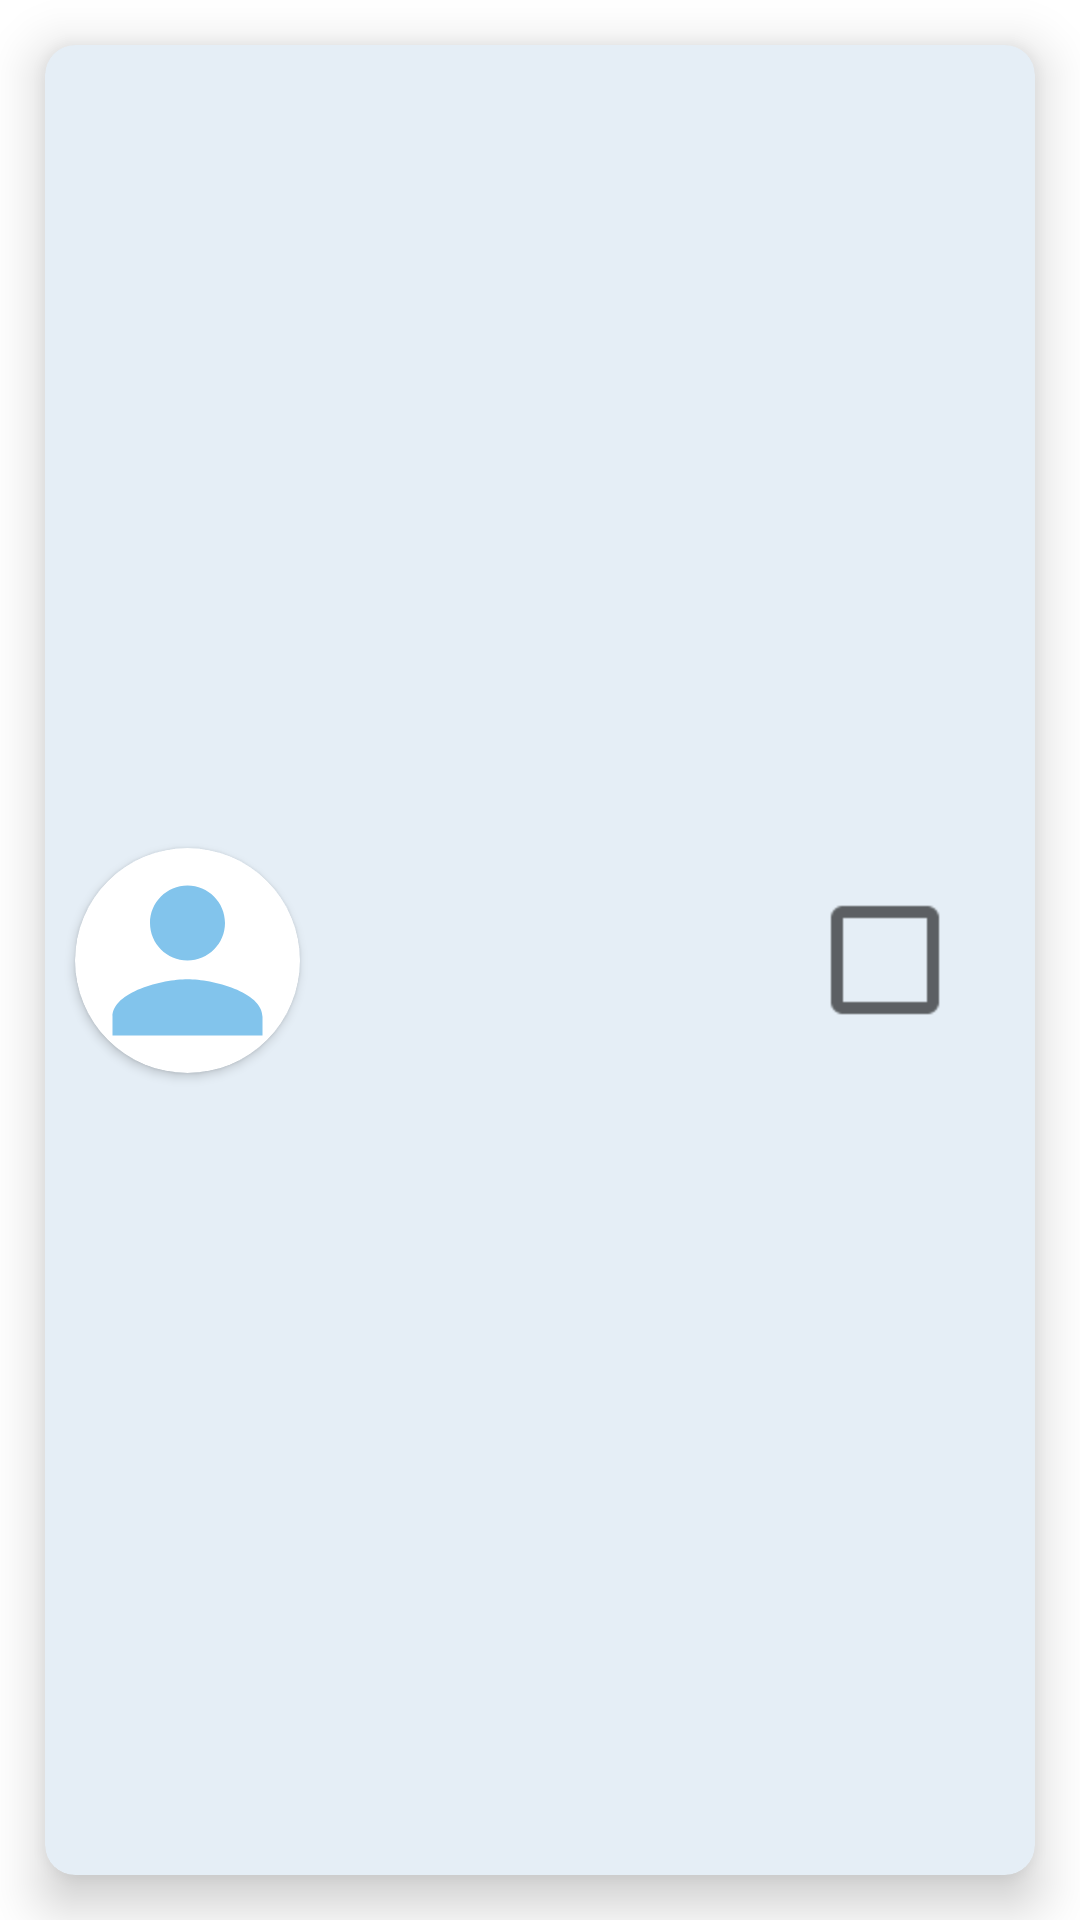

Icons on this 1080x1920 Android screen, each with its box as [x1, y1, x2, y2]:
utilizator: [75, 848, 300, 1073]
